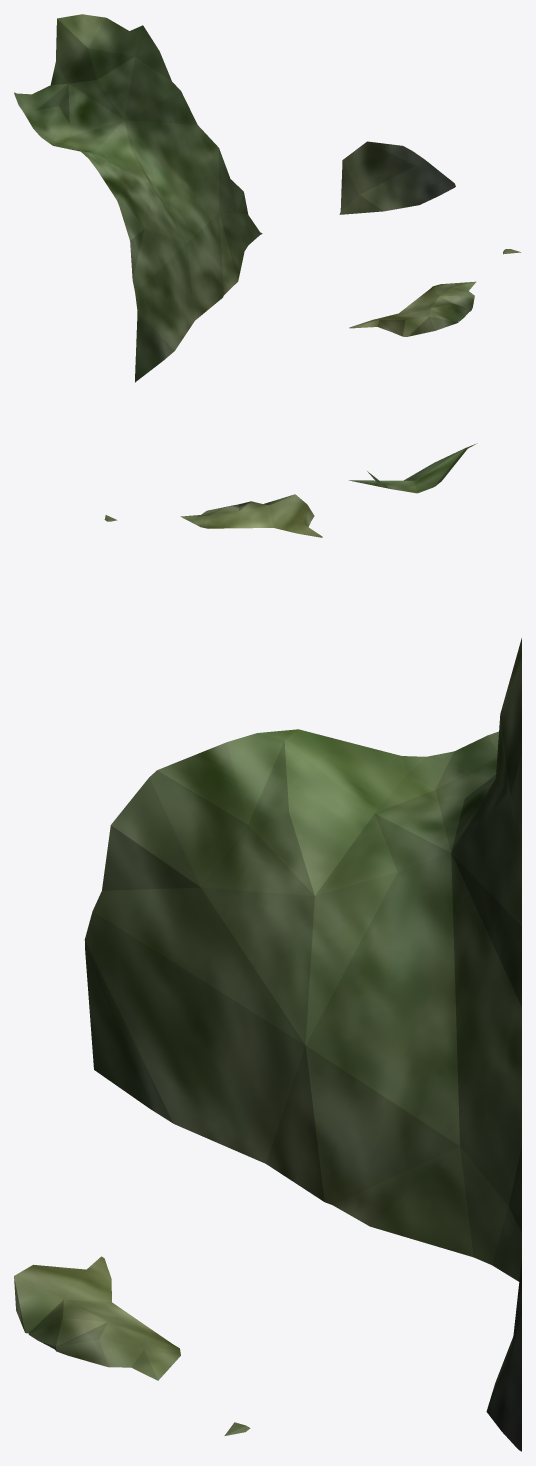
3 renders of one model, top to bottom at view 1: azimuth 30°, elevation 25°; view 2: azimuth 150°, elevation 25°; view 3: azimuth 270°, elevation 25°, orthographic. The views are drawn at different scales.
Size of the model in its own units: 1.88 by 1.08 by 1.06.
Materials: 1 (1 with a texture image).
